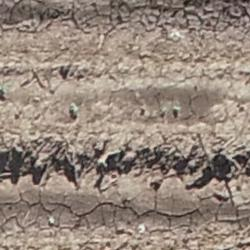cotton: (70, 102, 77, 112), (173, 106, 180, 111), (161, 108, 166, 113)
